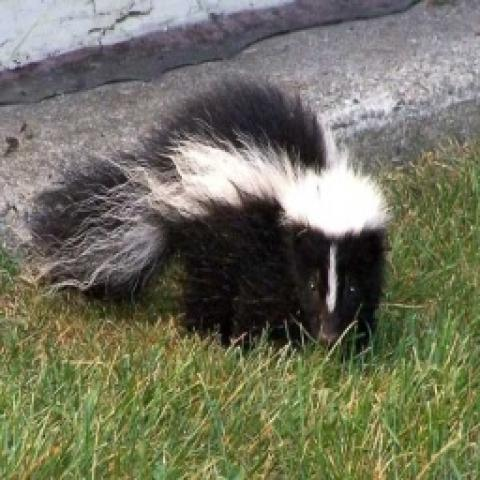small_animal: (22, 69, 396, 360)
